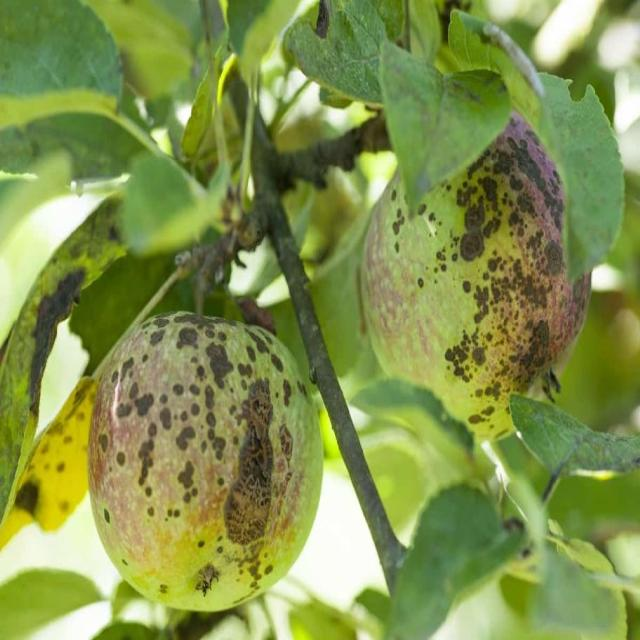Rotten Apple: (356, 63, 604, 491), (66, 275, 330, 634)
